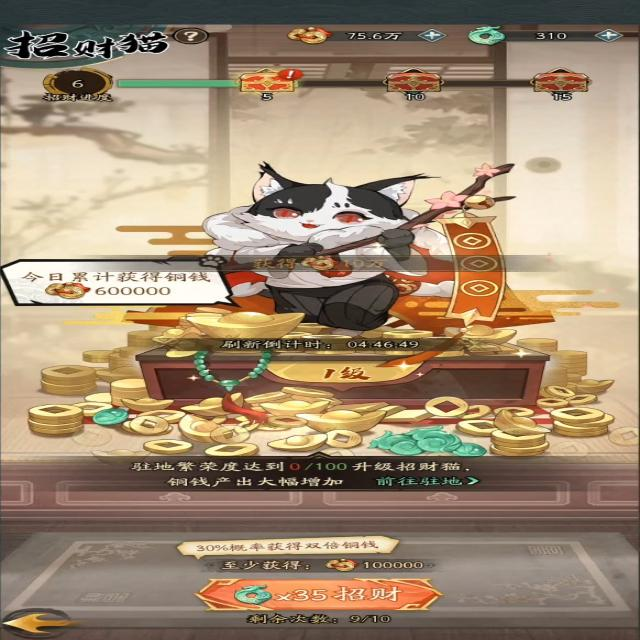hint-reddot: (275, 66, 305, 82)
operation-back: (2, 606, 76, 639)
operation-buy: (188, 574, 441, 615)
